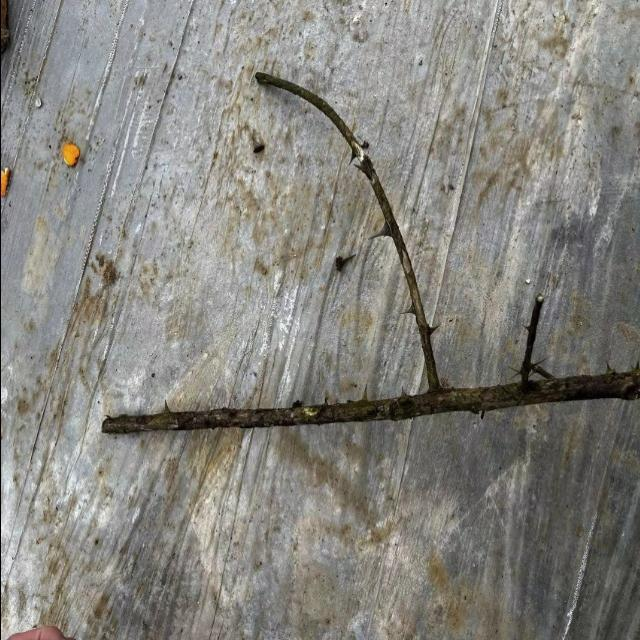branch: (99, 316, 640, 436), (252, 72, 432, 384)
